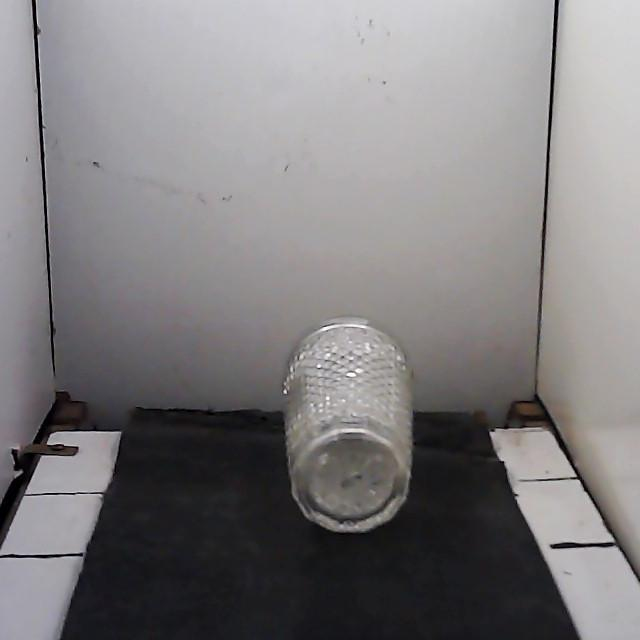vidro: (283, 318, 411, 532)
